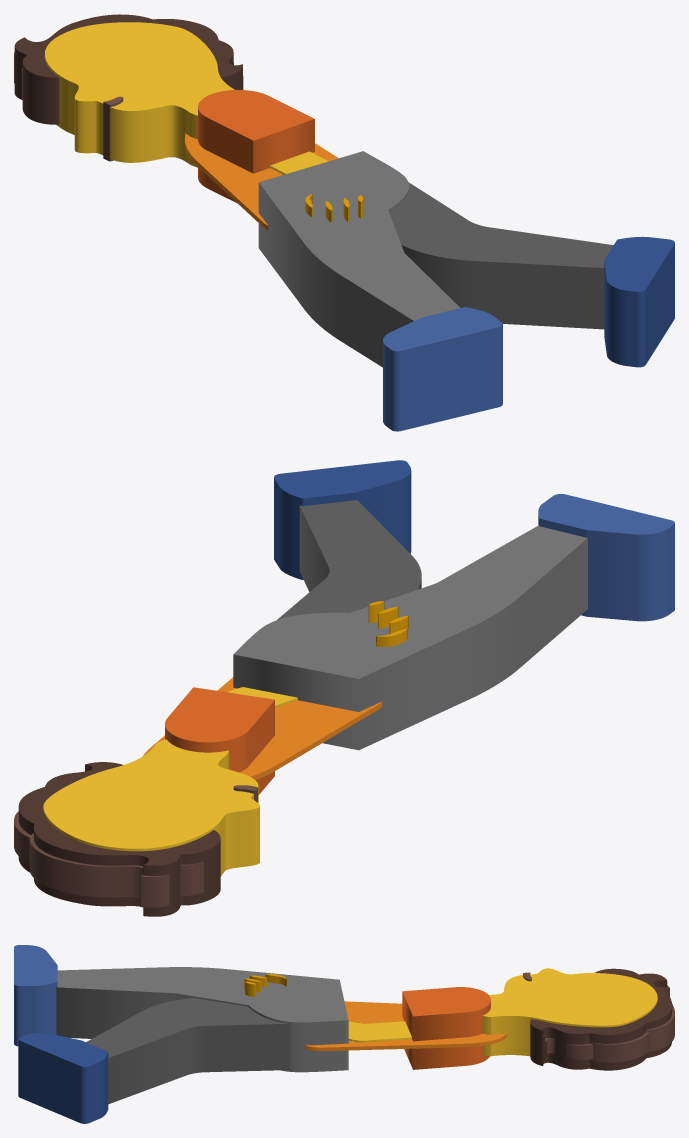
The model's file is emoji_u1f6b6.glb.
The picture shows the model from 3 angles, top to bottom: view 1: azimuth 30°, elevation 25°; view 2: azimuth 150°, elevation 25°; view 3: azimuth 270°, elevation 25°; orthographic projection. The views are drawn at different scales.
Parts seen in each view (by area): view 1: emoji_u1f6b6; view 2: emoji_u1f6b6; view 3: emoji_u1f6b6.
Boxes of the visible parts, x1=… form: emoji_u1f6b6: x1=14, y1=14, x2=674, y2=431; emoji_u1f6b6: x1=14, y1=460, x2=674, y2=916; emoji_u1f6b6: x1=14, y1=945, x2=674, y2=1123.
Size of the model in its own units: 0.0145 by 0.0042 by 0.0336.
